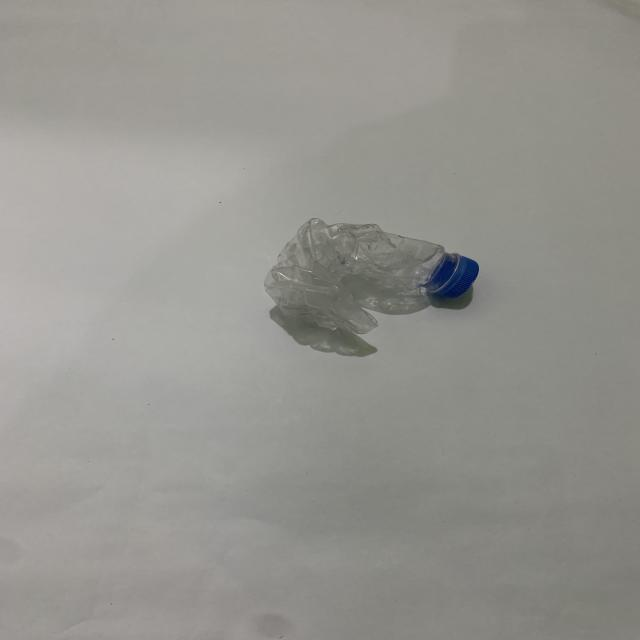bottle: (252, 220, 494, 342)
